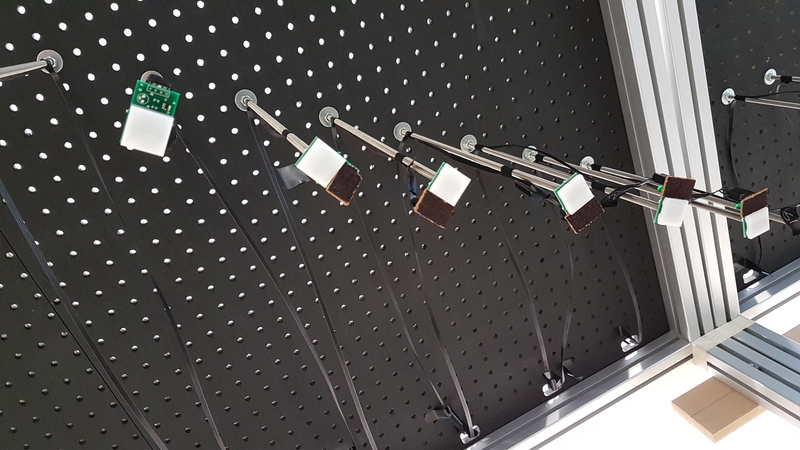target: (116, 105, 175, 159), (295, 139, 346, 192), (430, 157, 471, 208), (557, 171, 594, 213), (742, 202, 773, 242), (658, 191, 685, 229)
